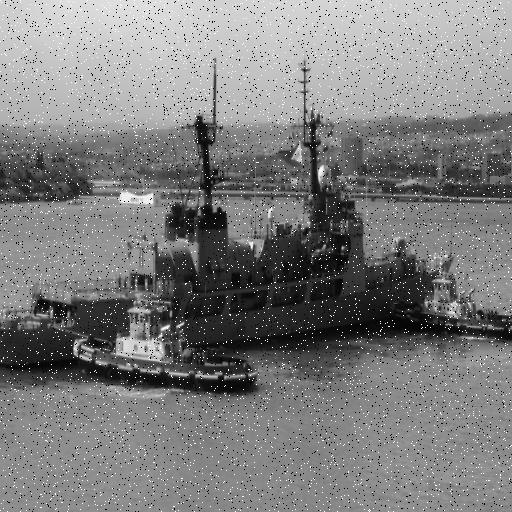Fragata: (30, 32, 467, 365)
